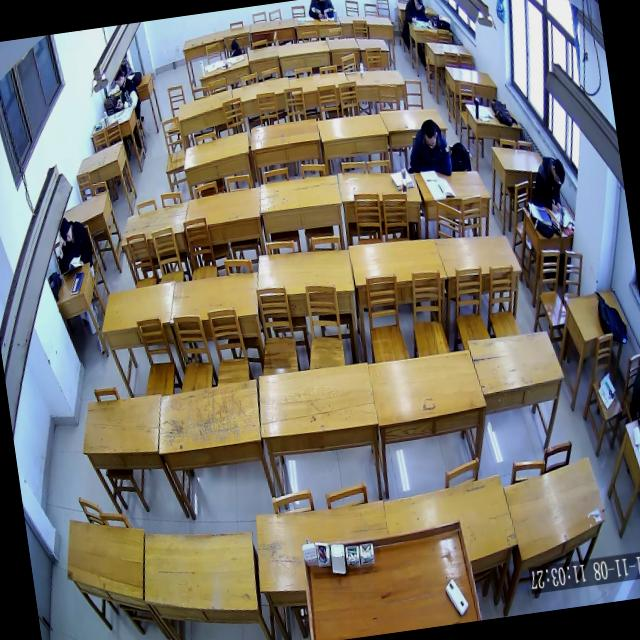down: (420, 117, 440, 151), (56, 215, 76, 246), (549, 157, 568, 188), (112, 68, 126, 90), (412, 0, 425, 13)
sit: (404, 114, 454, 182), (527, 152, 573, 219), (50, 212, 96, 278), (108, 66, 141, 112), (400, 0, 433, 31)
